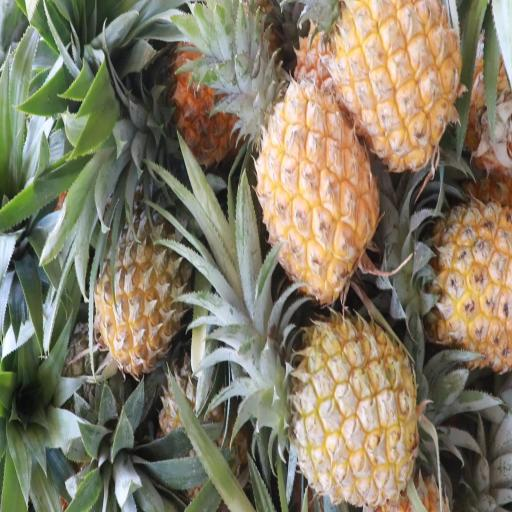Pineapple - v8 v1: (246, 80, 380, 300), (275, 309, 420, 512), (367, 196, 512, 369), (328, 4, 467, 165), (91, 183, 181, 372)
